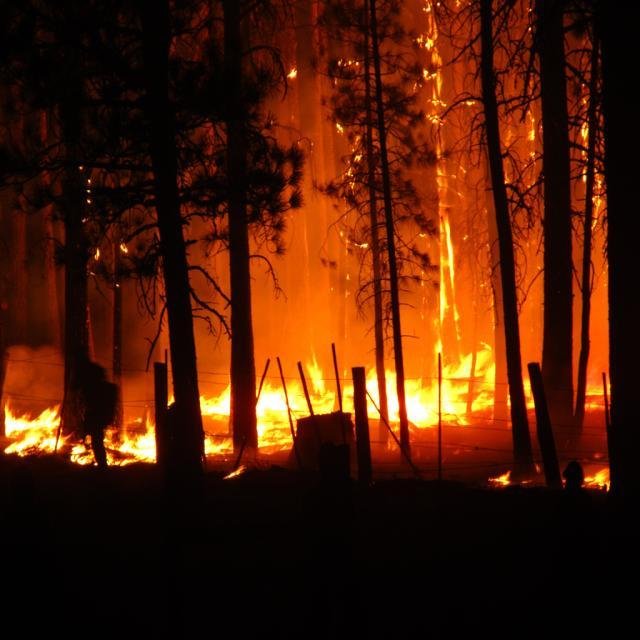Fire: (370, 372, 500, 430), (5, 400, 55, 452), (252, 382, 286, 435), (202, 385, 230, 435), (122, 422, 156, 455)
